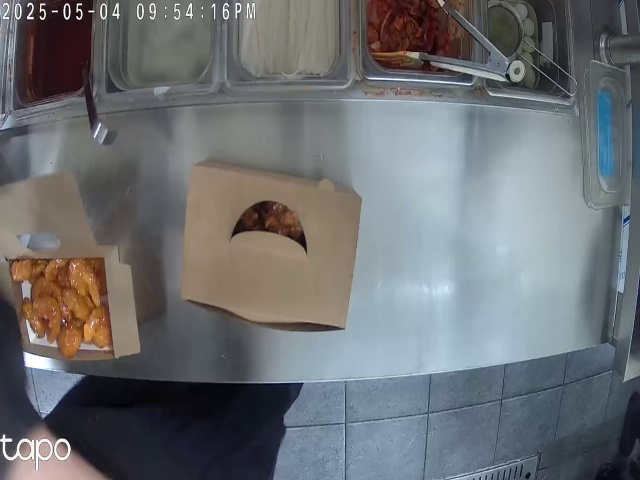closed delivery box: (189, 161, 359, 337)
delivery box: (0, 175, 149, 352)
food: (20, 262, 113, 347)
